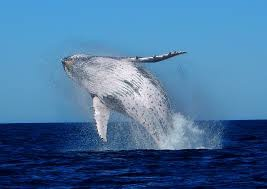humpback: (61, 53, 182, 150)
